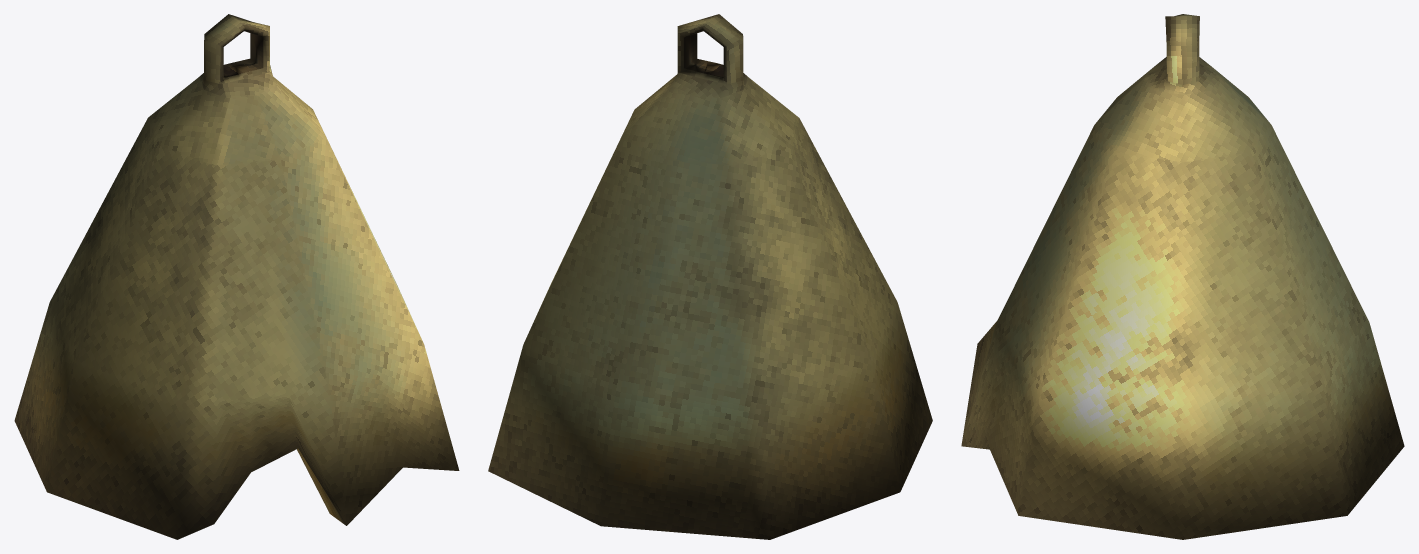
Rendered from BigBellBroken.glb.
The picture shows the model from 3 angles, left to right: view 1: azimuth 30°, elevation 25°; view 2: azimuth 150°, elevation 25°; view 3: azimuth 270°, elevation 25°; orthographic projection.
Parts seen in each view (by area): view 1: Cube; view 2: Cube; view 3: Cube.
Part boxes in pixels (x1,y1,x2,y2): Cube: (14,14,459,539); Cube: (488,14,932,539); Cube: (961,14,1404,539).
Bounding box in the file's own units: 7 × 7.49 × 7.
Materials: 1 (1 with a texture image).
